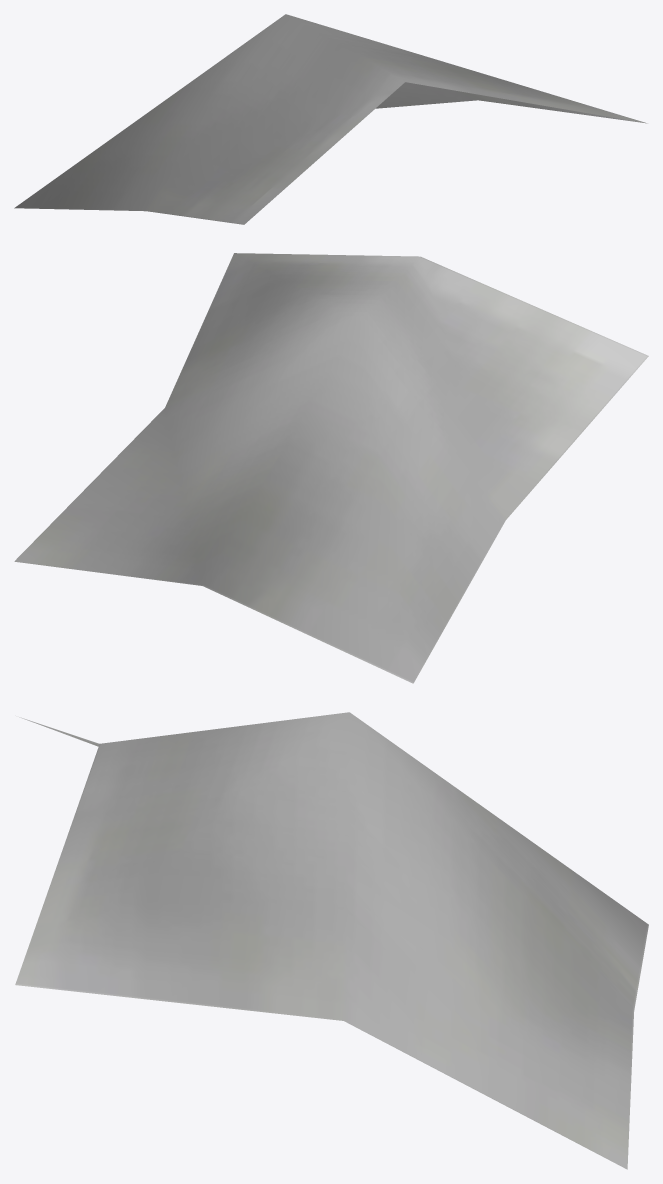
The picture shows the model from 3 angles, top to bottom: view 1: azimuth 30°, elevation 25°; view 2: azimuth 150°, elevation 25°; view 3: azimuth 270°, elevation 25°; orthographic projection. The views are drawn at different scales.
Parts seen in each view (by area): view 1: model_Object02; view 2: model_Object02; view 3: model_Object02.
Part boxes in pixels (x1,y1,x2,y2): model_Object02: [14, 14, 647, 224]; model_Object02: [14, 253, 648, 683]; model_Object02: [15, 712, 648, 1169].
Bounding box in the file's own units: 1.92 × 1.06 × 1.89.
1 material, 1 textured.
